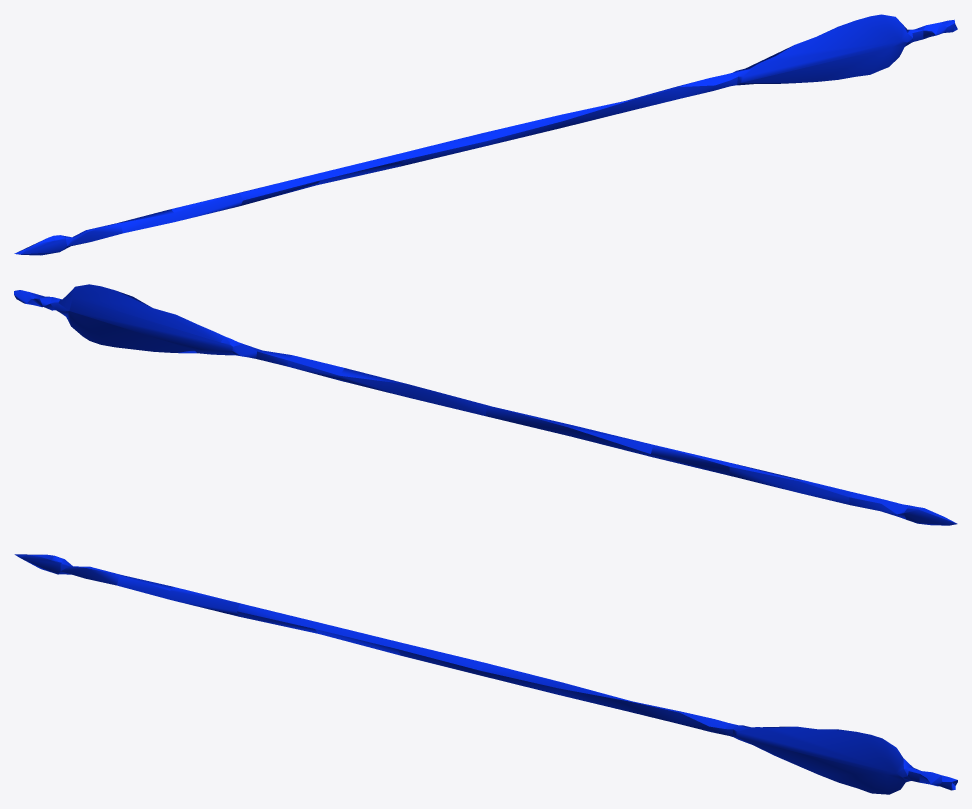
The model's file is Unity_Grruzam_BaseModeling_Arrow.FBX.
3 views of the same model, one above another, from view 1: azimuth 30°, elevation 25°; view 2: azimuth 150°, elevation 25°; view 3: azimuth 330°, elevation 25° (orthographic).
Visible parts, largest first — view 1: Arrow_001; view 2: Arrow_001; view 3: Arrow_001.
Part boxes in pixels (<box>): Arrow_001: <box>14,14,957,255</box>; Arrow_001: <box>14,284,957,525</box>; Arrow_001: <box>14,554,957,794</box>.
Size of the model in its own units: 79.37 by 4.71 by 0.9718.
